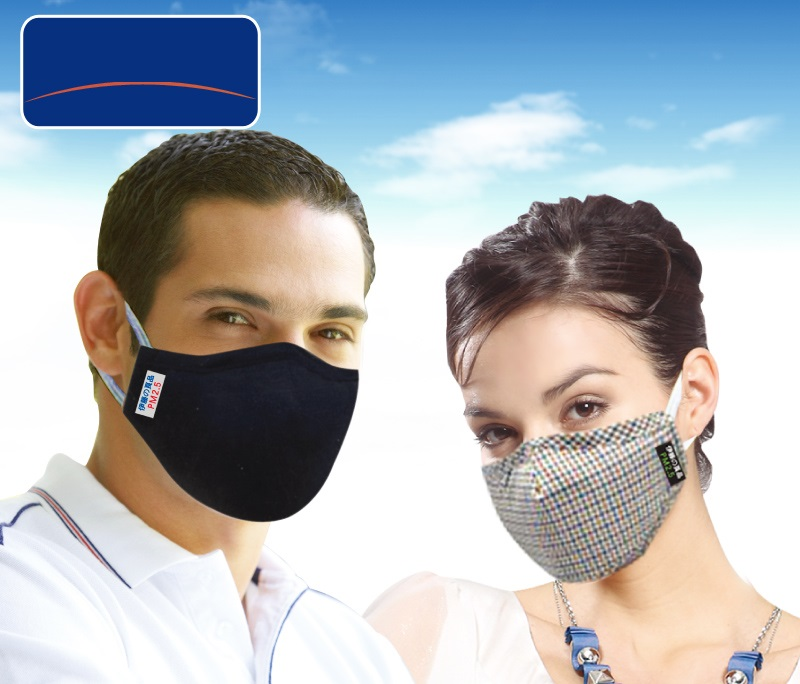face_mask: (139, 191, 366, 525), (470, 310, 675, 580)
